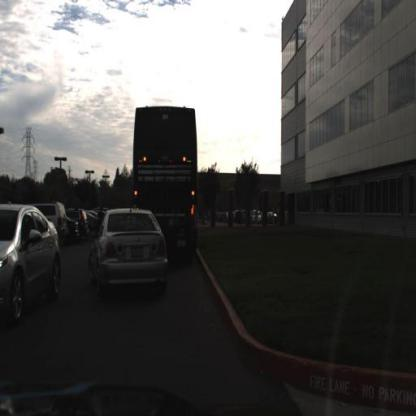car: (2, 198, 64, 323), (94, 207, 171, 290), (39, 197, 71, 241), (250, 206, 265, 224)
truck: (133, 104, 198, 234)
